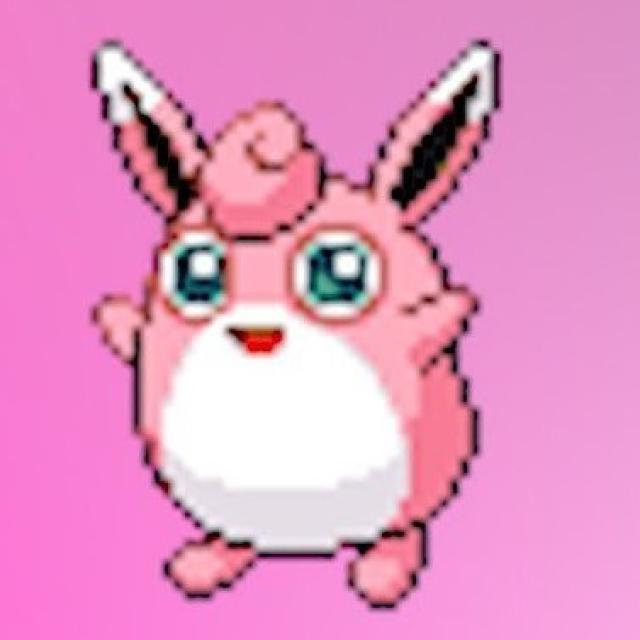Wigglytuff: (84, 40, 508, 611)
